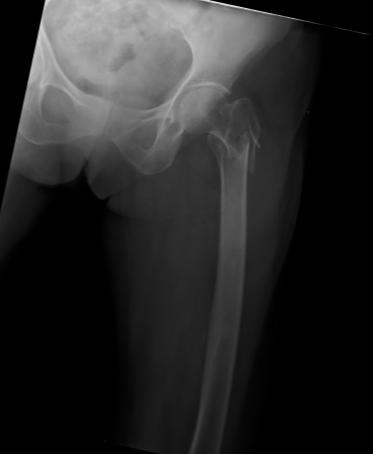fractured: (217, 124, 256, 176)
